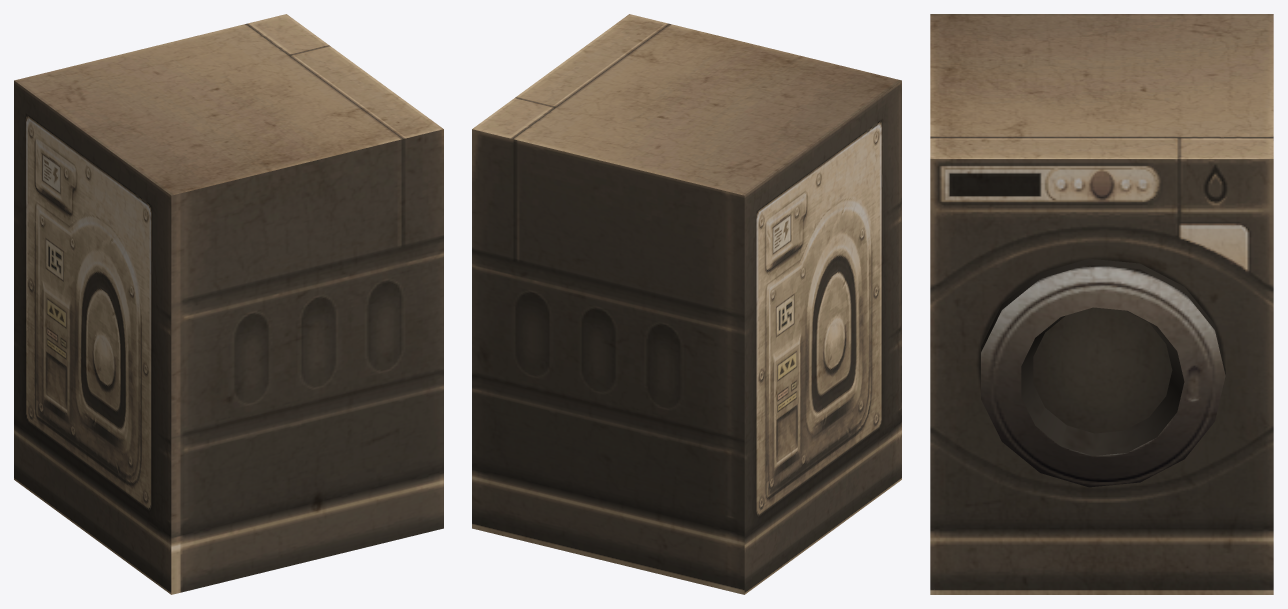
File: washing_machine.fbx
The picture shows the model from 3 angles, left to right: view 1: azimuth 30°, elevation 25°; view 2: azimuth 150°, elevation 25°; view 3: azimuth 270°, elevation 25°; orthographic projection. The views are drawn at different scales.
Visible parts, largest first — view 1: washing_machine.001; view 2: washing_machine.001; view 3: washing_machine.001.
Boxes of the visible parts, x1,y1,x2,y2 form: washing_machine.001: (14, 14, 443, 594); washing_machine.001: (472, 14, 901, 594); washing_machine.001: (930, 14, 1273, 594).
Bounding box in the file's own units: 0.5986 × 0.7759 × 0.5542.
1 material, 1 textured.
